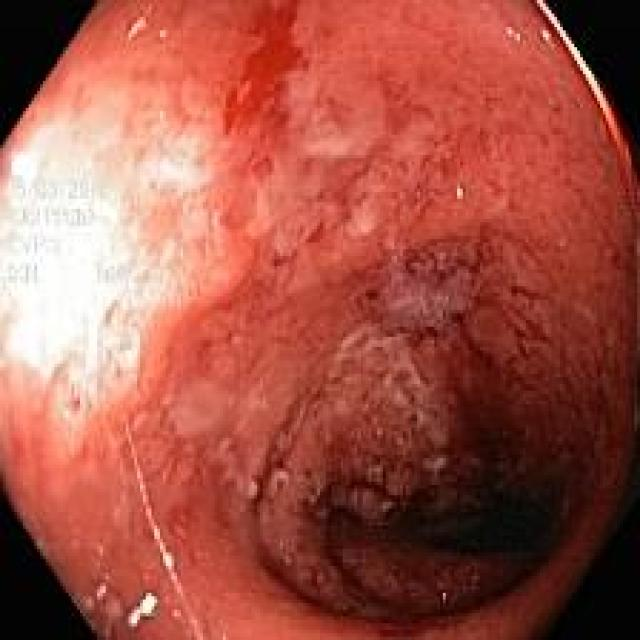ulcerative-colitis-grade-3: (1, 3, 638, 640)
